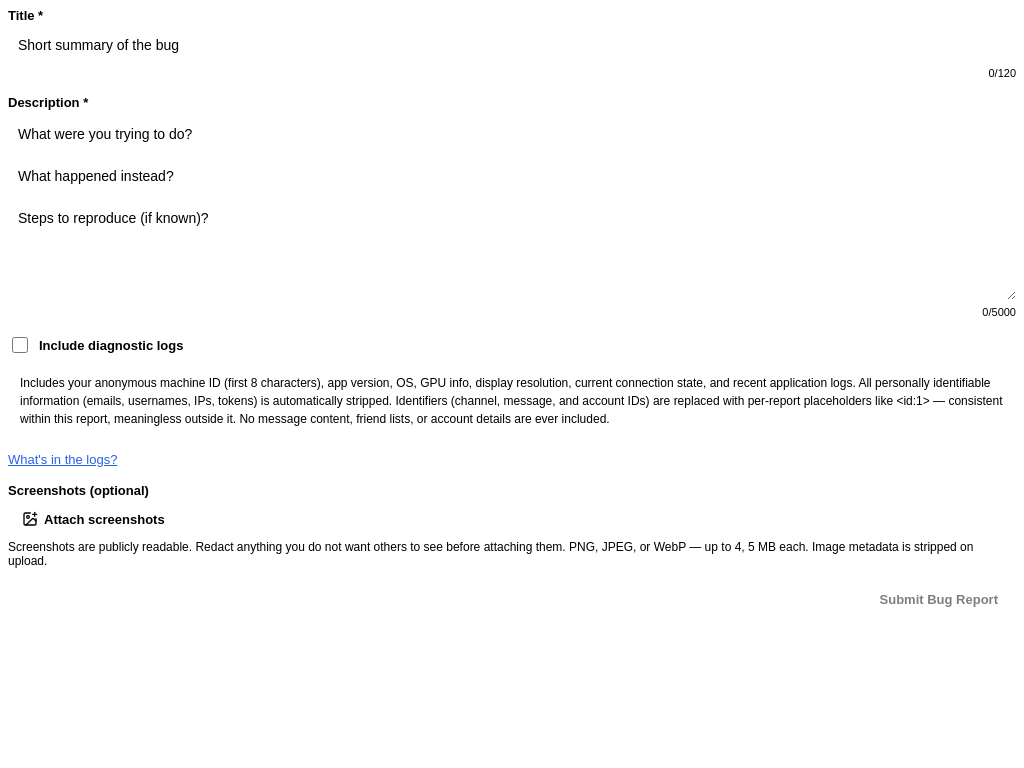
it: BugReportPanel › logs preview (#2078) › surfaces a graceful error state when diagnostics collection fails
Click the button "What's in the logs?" at (63, 460), box [8,452,117,467]
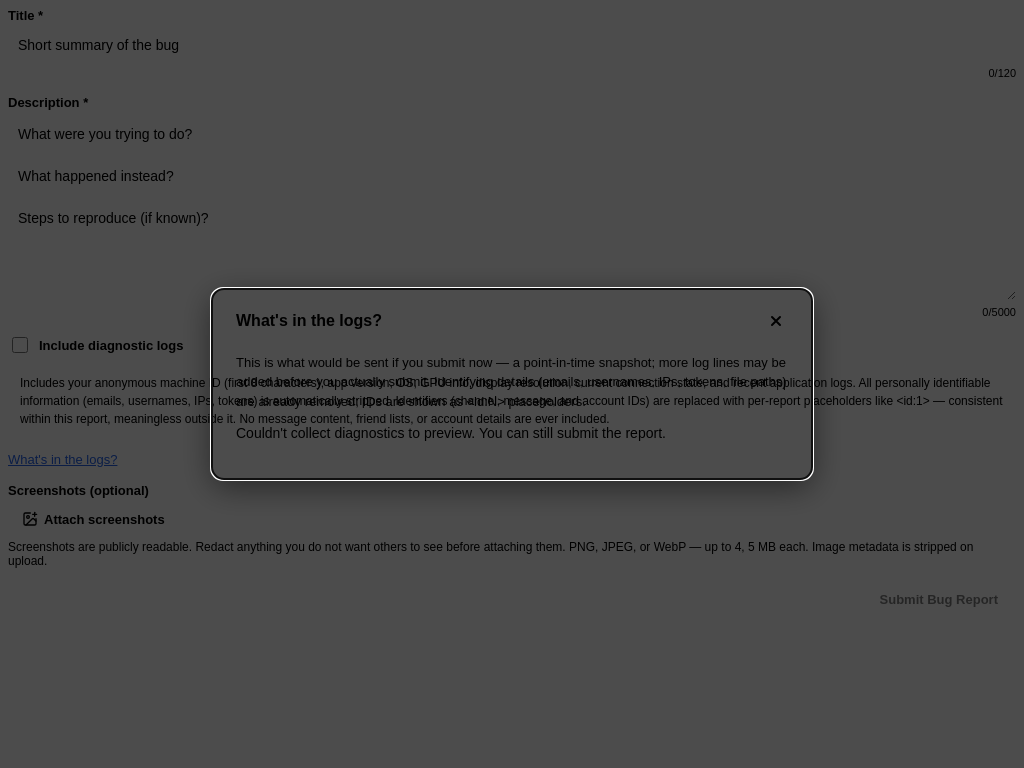
expect the text "Couldn't collect diagnostics" is shown: met, box [236,425,666,441]
